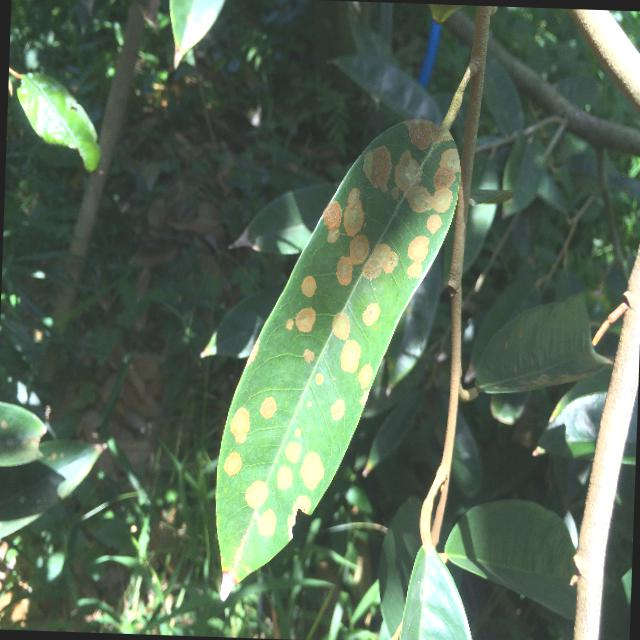Algal Leaf Spot: (204, 103, 474, 613)
